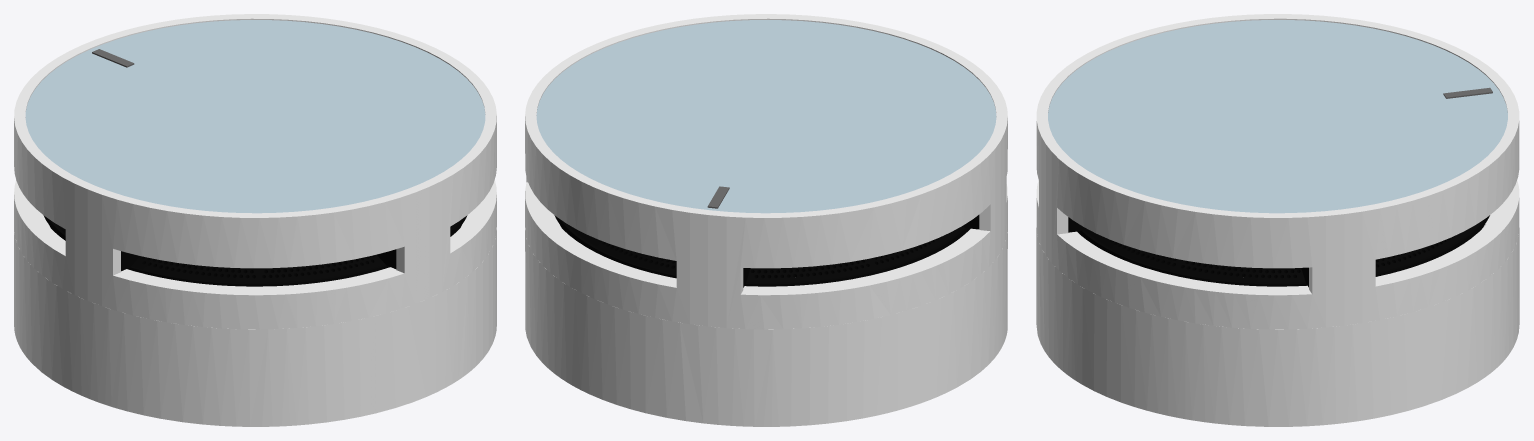
File: avrora_2.glb
The picture shows the model from 3 angles, left to right: view 1: azimuth 30°, elevation 25°; view 2: azimuth 150°, elevation 25°; view 3: azimuth 270°, elevation 25°; orthographic projection.
Parts seen in each view (by area): view 1: наклейка, Крышка_L_1, База, Фильтр, Крышка 1; view 2: наклейка, Крышка_L_1, База, Фильтр; view 3: наклейка, Крышка_L_1, База, Фильтр.
Part boxes in pixels (bbox=[...]): наклейка: bbox=[25, 20, 485, 213]; Крышка_L_1: bbox=[14, 14, 496, 329]; База: bbox=[14, 211, 496, 426]; Фильтр: bbox=[43, 215, 467, 286]; Крышка 1: bbox=[121, 249, 396, 271]; наклейка: bbox=[536, 20, 996, 213]; Крышка_L_1: bbox=[525, 14, 1007, 329]; База: bbox=[525, 211, 1007, 426]; Фильтр: bbox=[554, 215, 970, 286]; наклейка: bbox=[1048, 20, 1507, 213]; Крышка_L_1: bbox=[1036, 14, 1519, 329]; База: bbox=[1036, 212, 1519, 426]; Фильтр: bbox=[1077, 215, 1489, 286].
Size of the model in its own units: 10.6 by 5.07 by 10.6.
